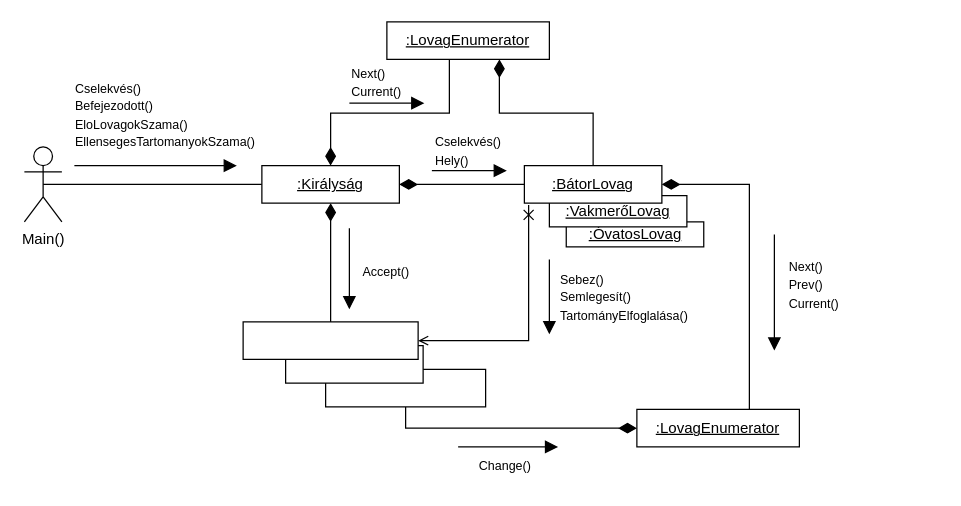
Image size: 961x506. Some labels were removed from this diagram. The shapes that lost their labels are listed below. From the top down, each one's box as (x1, y1, x2, y2) in pixels, then its label:
(242, 321, 418, 359): :EllenségesTarotmány
(284, 344, 423, 383): :KirályiTartomány
(324, 368, 486, 407): :SemlegesTartomány
